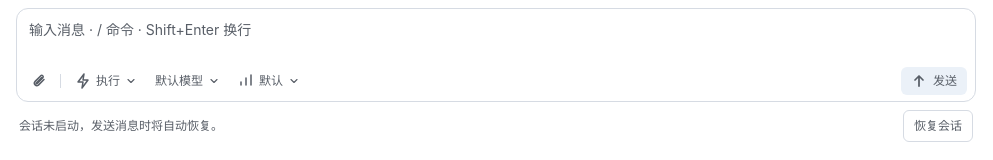
Test: the inactive composer accepts drafts and keeps manual resume available
expect the button named "添加附件" is enabled: met, box [25,67,53,95]
Type "继续处理" into the text box labelled "消息". click: coordinates (496, 41)
box: [29,19,963,63]
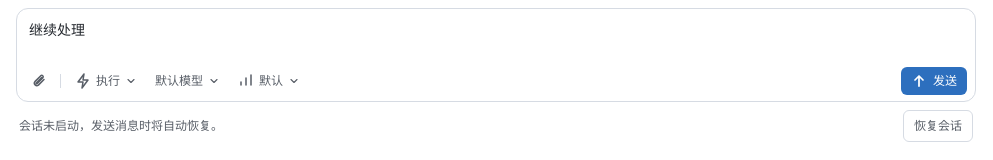
expect the button "发送" is enabled: met, box [901,67,967,95]
Click the button "恢复会话". click: coordinates (938, 126)
box: [903,110,973,142]
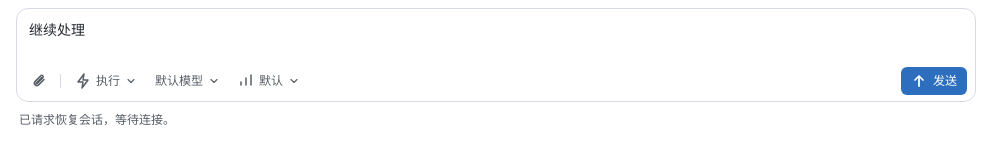
expect the message reads "已请求恢复会话，等待连接。": met, box [19,112,175,127]
